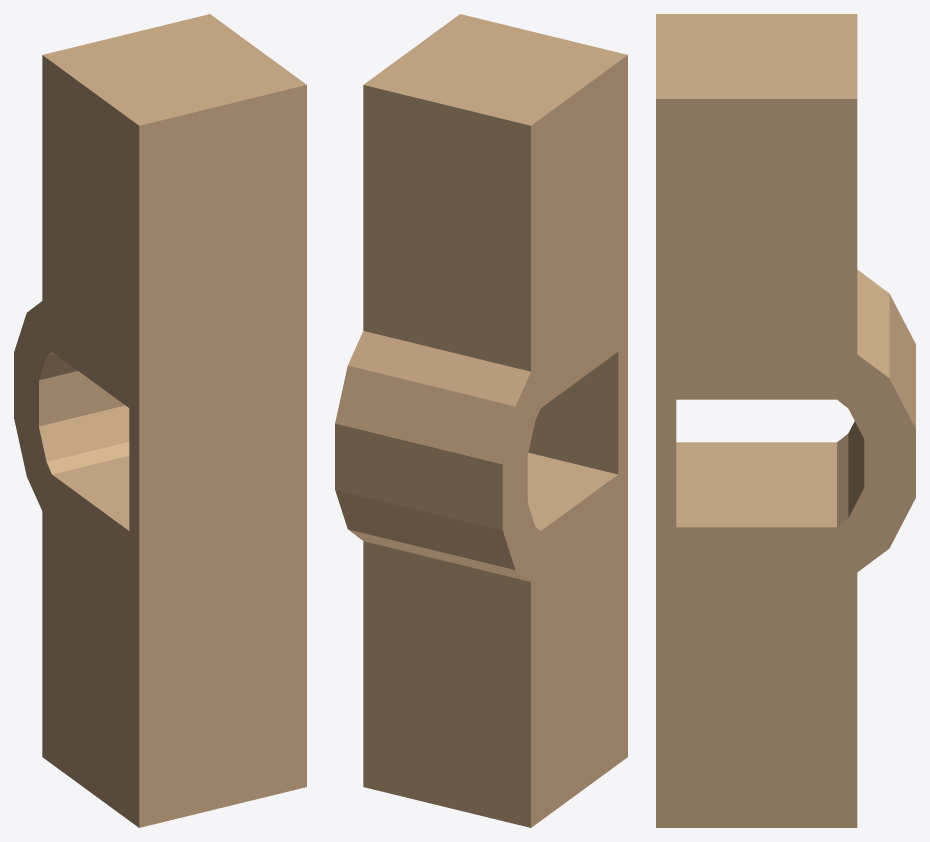
The model's file is Puzzle_Wall_Pillar_Conduit_Passthrough.fbx.
3 views of the same model, side by side, from view 1: azimuth 30°, elevation 25°; view 2: azimuth 150°, elevation 25°; view 3: azimuth 270°, elevation 25° (orthographic). The views are drawn at different scales.
Parts seen in each view (by area): view 1: object1; view 2: object1; view 3: object1.
Part boxes in pixels (bbox=[...]): object1: bbox=[14, 14, 306, 827]; object1: bbox=[335, 14, 627, 827]; object1: bbox=[656, 14, 915, 827].
Bounding box in the file's own units: 0.25 × 1 × 0.323.
